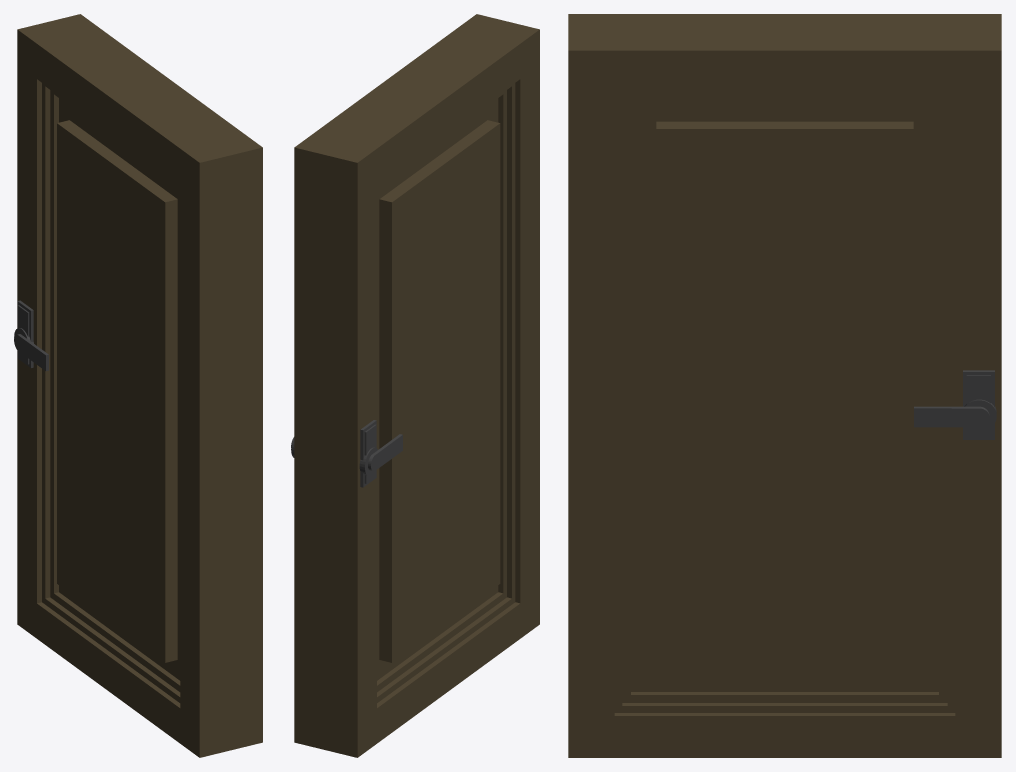
Rendered from Door.glb.
3 views of the same model, side by side, from view 1: azimuth 30°, elevation 25°; view 2: azimuth 150°, elevation 25°; view 3: azimuth 270°, elevation 25° (orthographic). The views are drawn at different scales.
Visible parts, largest first — view 1: Cube_Cube.001, Cube.001_Cube.001; view 2: Cube_Cube.001, Cube.001_Cube.001; view 3: Cube_Cube.001, Cube.001_Cube.001.
Boxes of the visible parts, x1,y1,x2,y2 form: Cube_Cube.001: (17, 14, 262, 757); Cube.001_Cube.001: (14, 300, 48, 371); Cube_Cube.001: (294, 14, 539, 757); Cube.001_Cube.001: (291, 420, 402, 487); Cube_Cube.001: (568, 14, 1001, 757); Cube.001_Cube.001: (914, 370, 996, 439).
Size of the model in its own units: 1.26 by 9 by 5.
